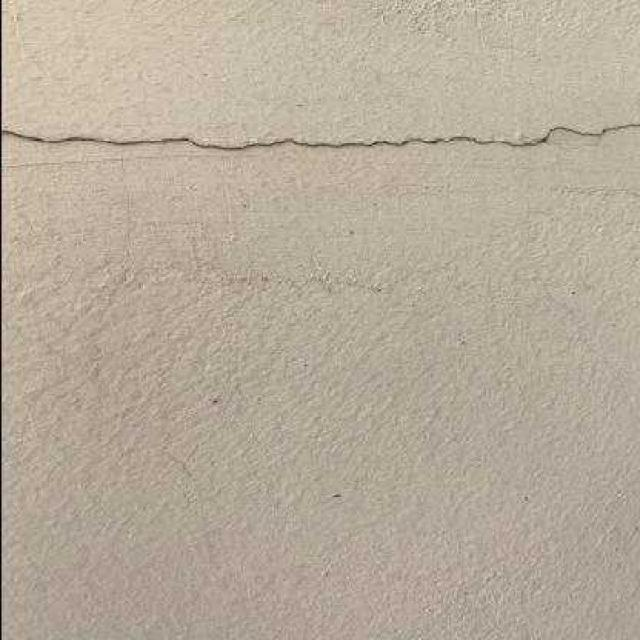D00: (0, 124, 640, 149)
